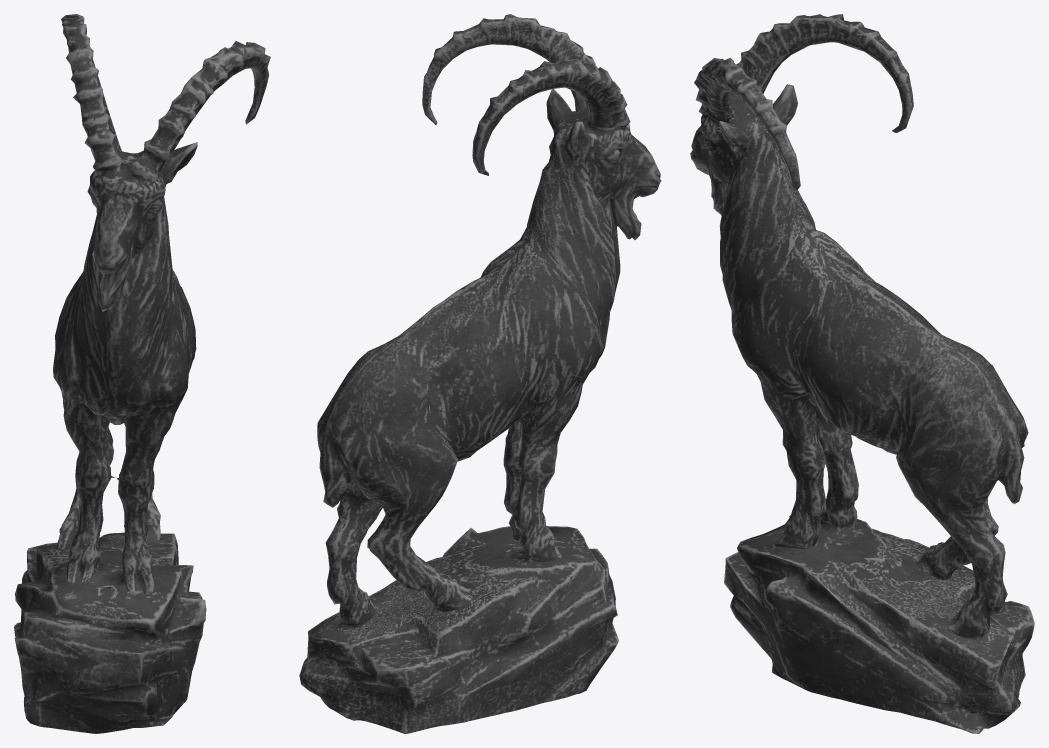
File: ibex-statue-scan-berlin-tierpark.glb
3 views of the same model, side by side, from view 1: azimuth 30°, elevation 25°; view 2: azimuth 150°, elevation 25°; view 3: azimuth 270°, elevation 25° (orthographic). The views are drawn at different scales.
Visible parts, largest first — view 1: mesh2a_low; view 2: mesh2a_low; view 3: mesh2a_low.
Part boxes in pixels (x1,y1,x2,y2): mesh2a_low: (14, 14, 270, 733); mesh2a_low: (299, 14, 661, 733); mesh2a_low: (690, 14, 1034, 733).
Bounding box in the file's own units: 0.777 × 2 × 0.9807.
1 material, 1 textured.
